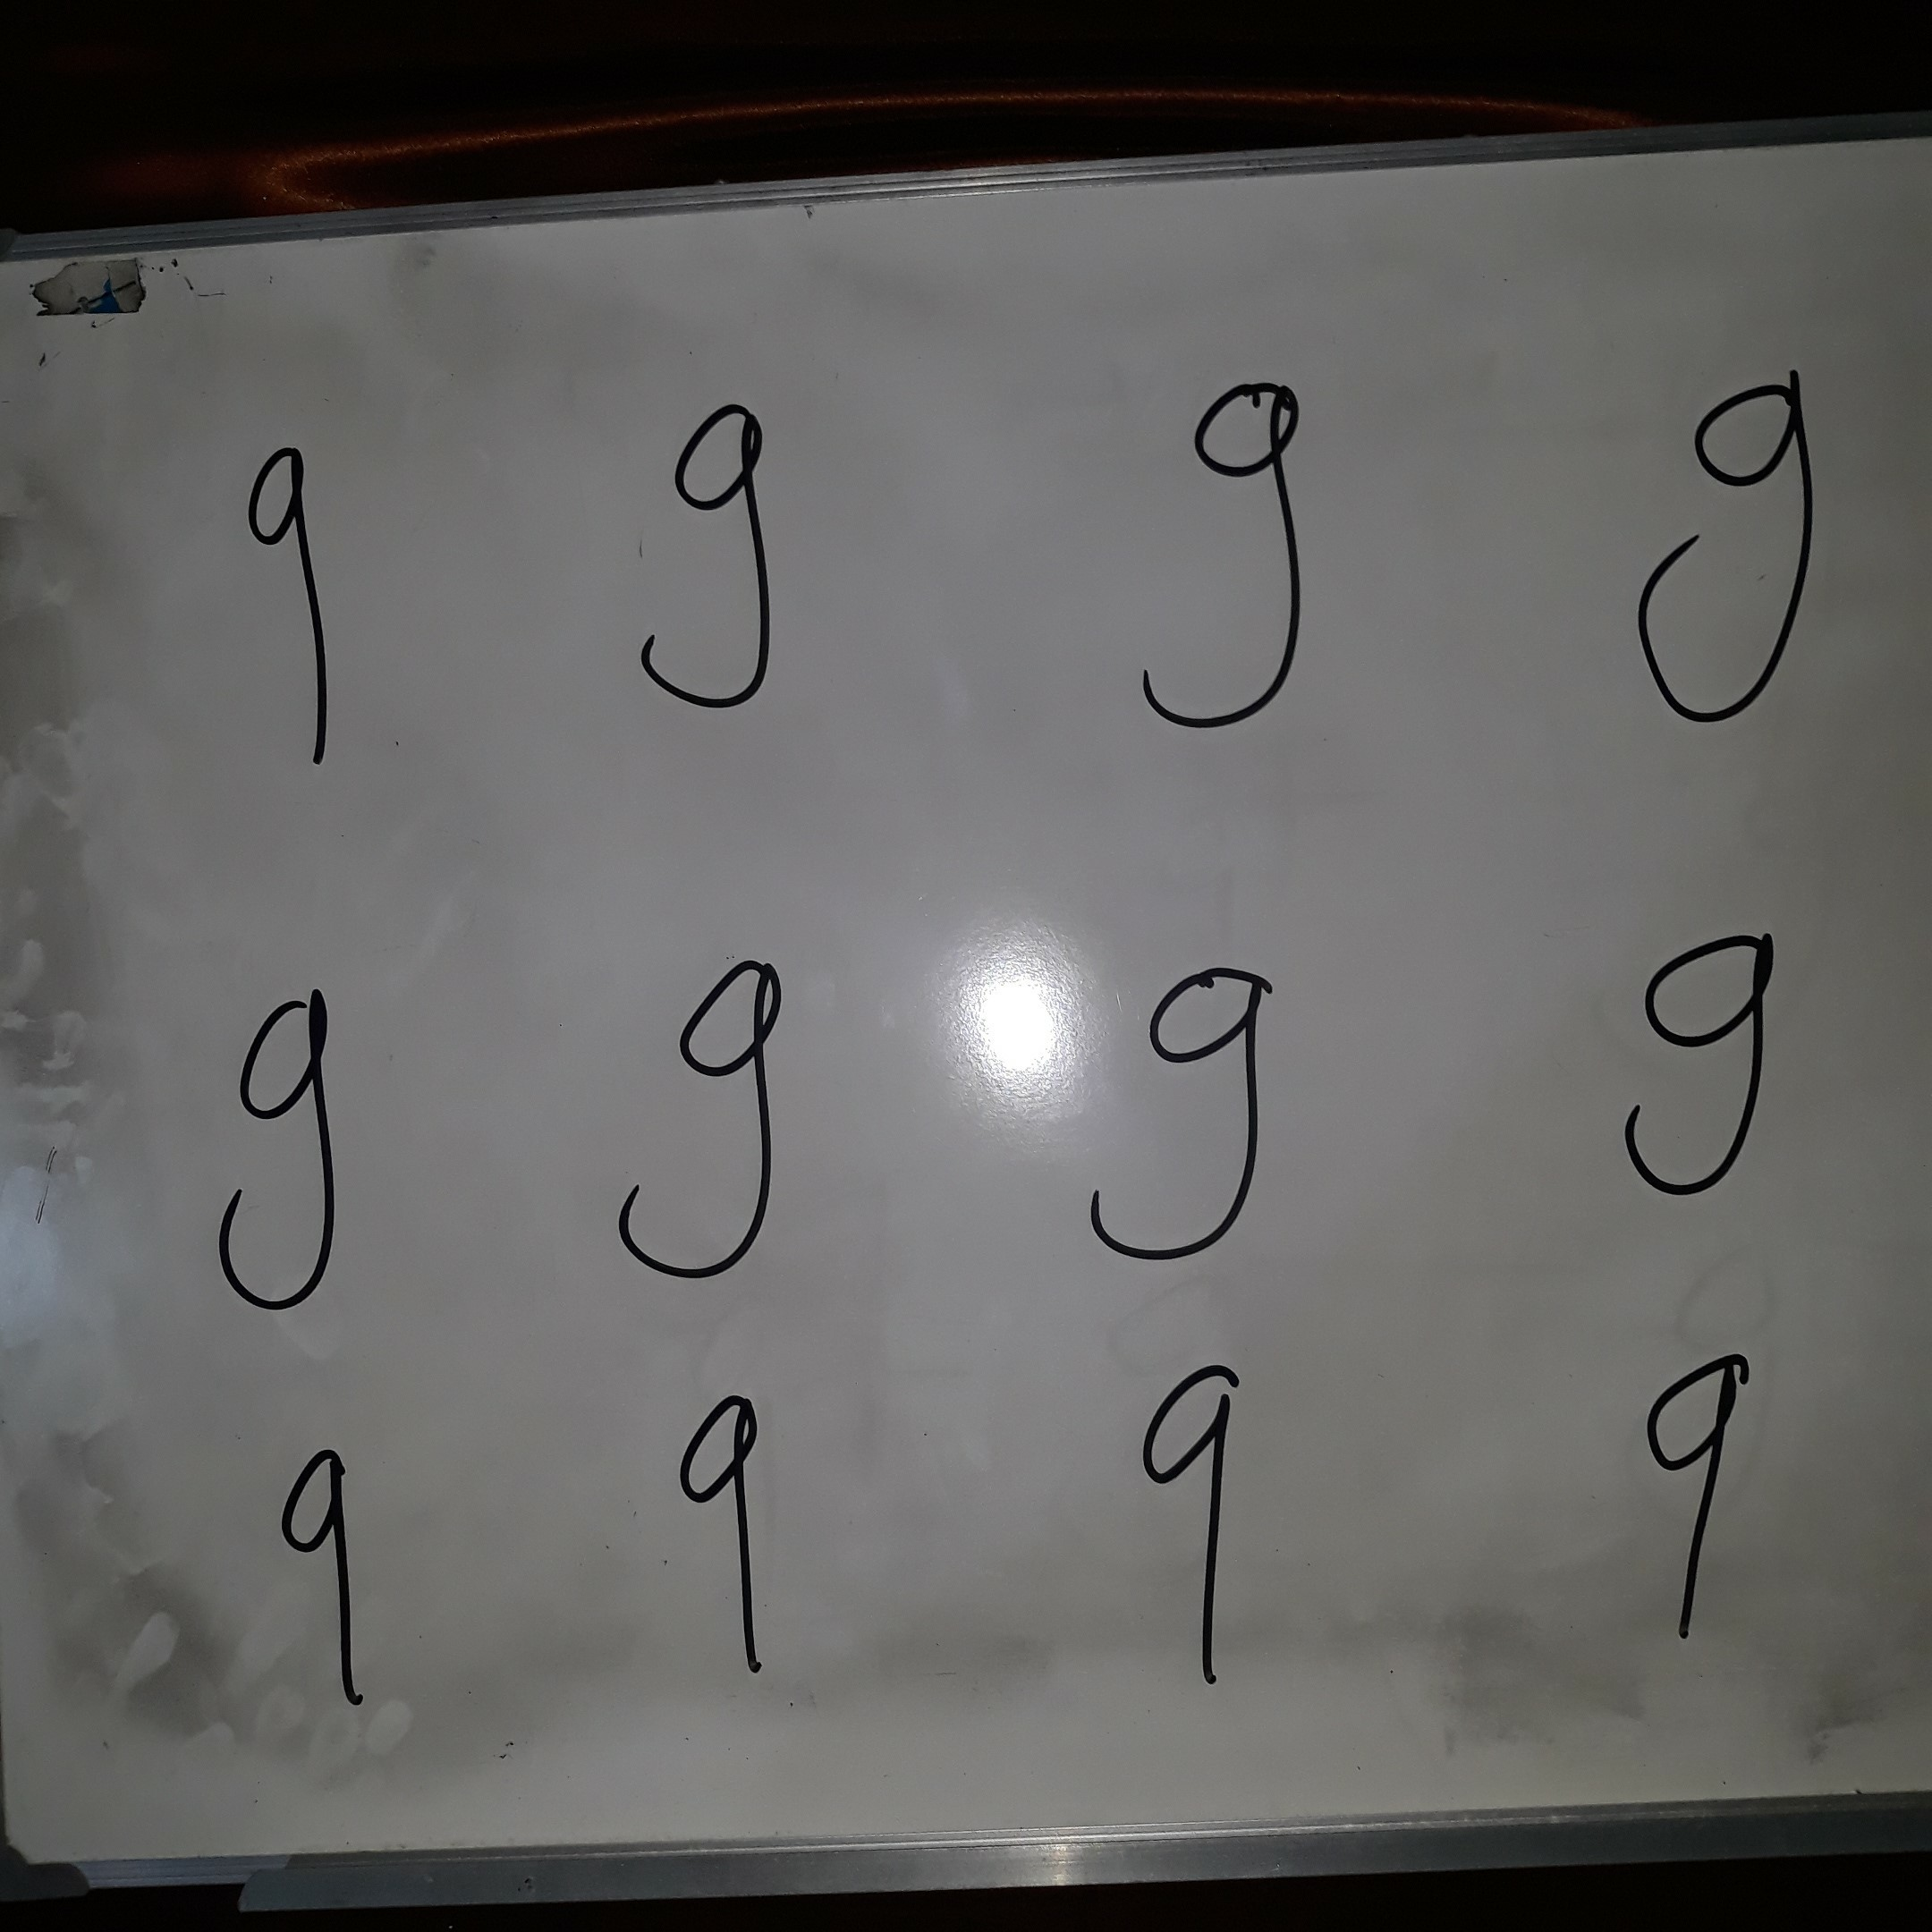num9: (1113, 369, 1338, 737), (1625, 352, 1840, 733), (1074, 945, 1283, 1272), (601, 951, 801, 1284), (617, 385, 811, 718), (1607, 911, 1795, 1203), (208, 957, 356, 1320), (225, 424, 364, 780), (1131, 1352, 1258, 1702), (667, 1368, 792, 1695), (1634, 1334, 1756, 1652), (272, 1437, 386, 1719)
